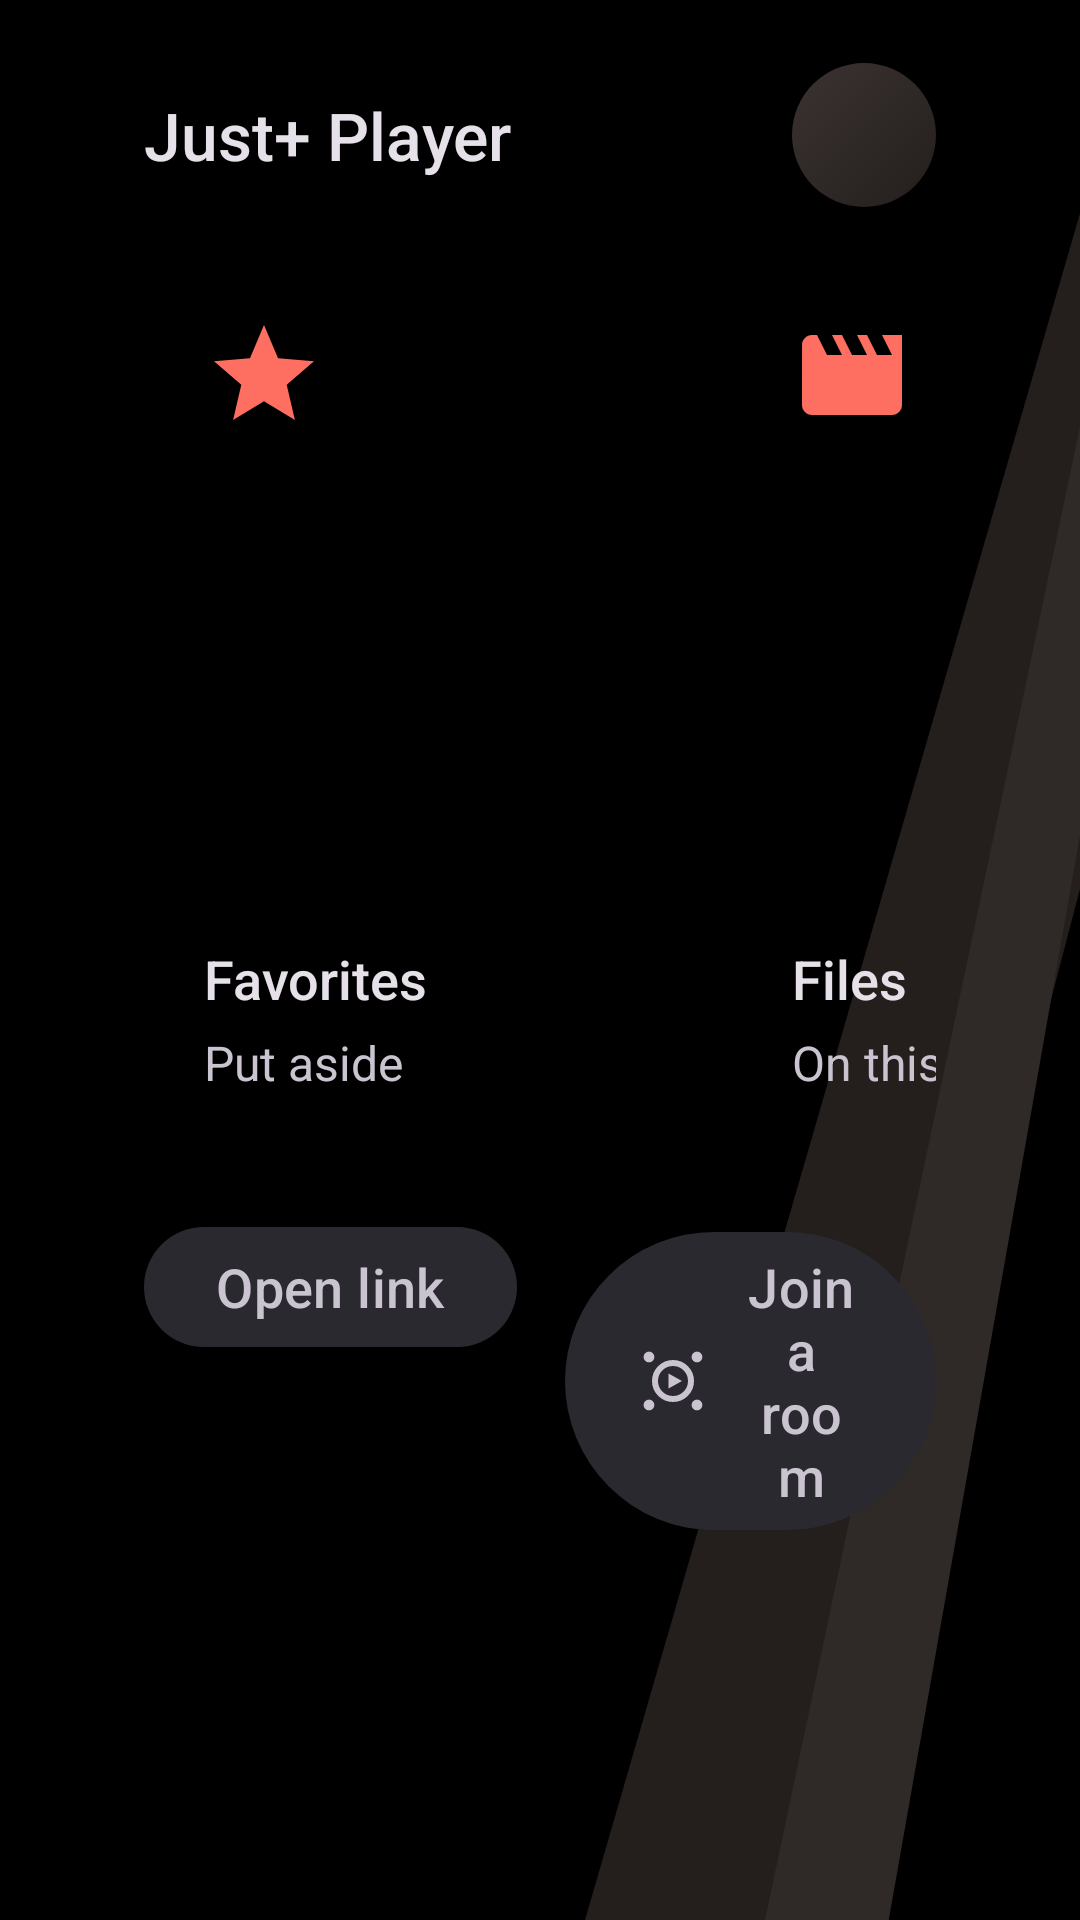

Screen size 1080*1920. Icon name, then its center in pixels as (x=x, y=y):
movie: (x=852, y=375)
star: (x=264, y=372)
